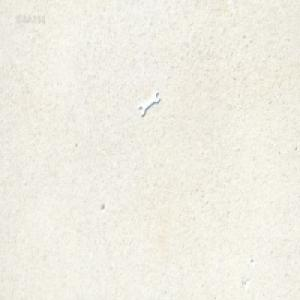Wrench: (138, 93, 160, 118)
